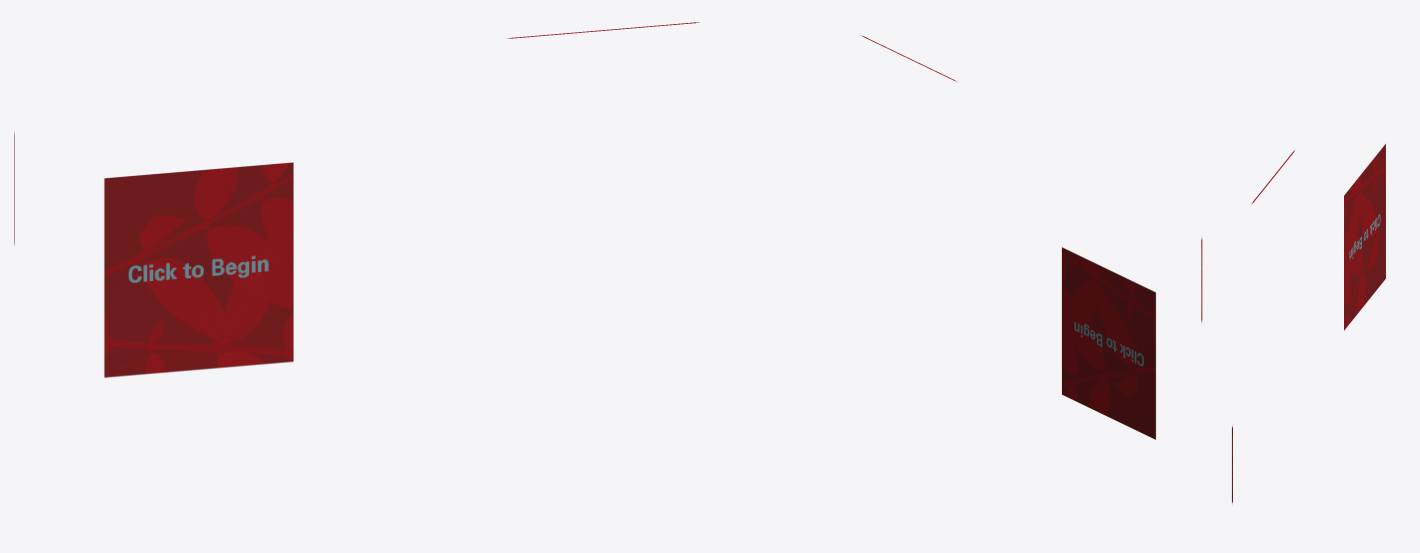
File: DSSplashModel_interior.gltf
3 renders of one model, left to right at view 1: azimuth 30°, elevation 25°; view 2: azimuth 150°, elevation 25°; view 3: azimuth 270°, elevation 25°, orthographic. The views are drawn at different scales.
Visible parts, largest first — view 1: splashscreenglb; view 2: splashscreenglb; view 3: splashscreenglb.
Part boxes in pixels (x1,y1,x2,y2): splashscreenglb: [14, 22, 699, 377]; splashscreenglb: [861, 35, 1202, 439]; splashscreenglb: [1232, 144, 1385, 503].
Bounding box in the file's own units: 1.48 × 1 × 0.5094.
1 material, 1 textured.
